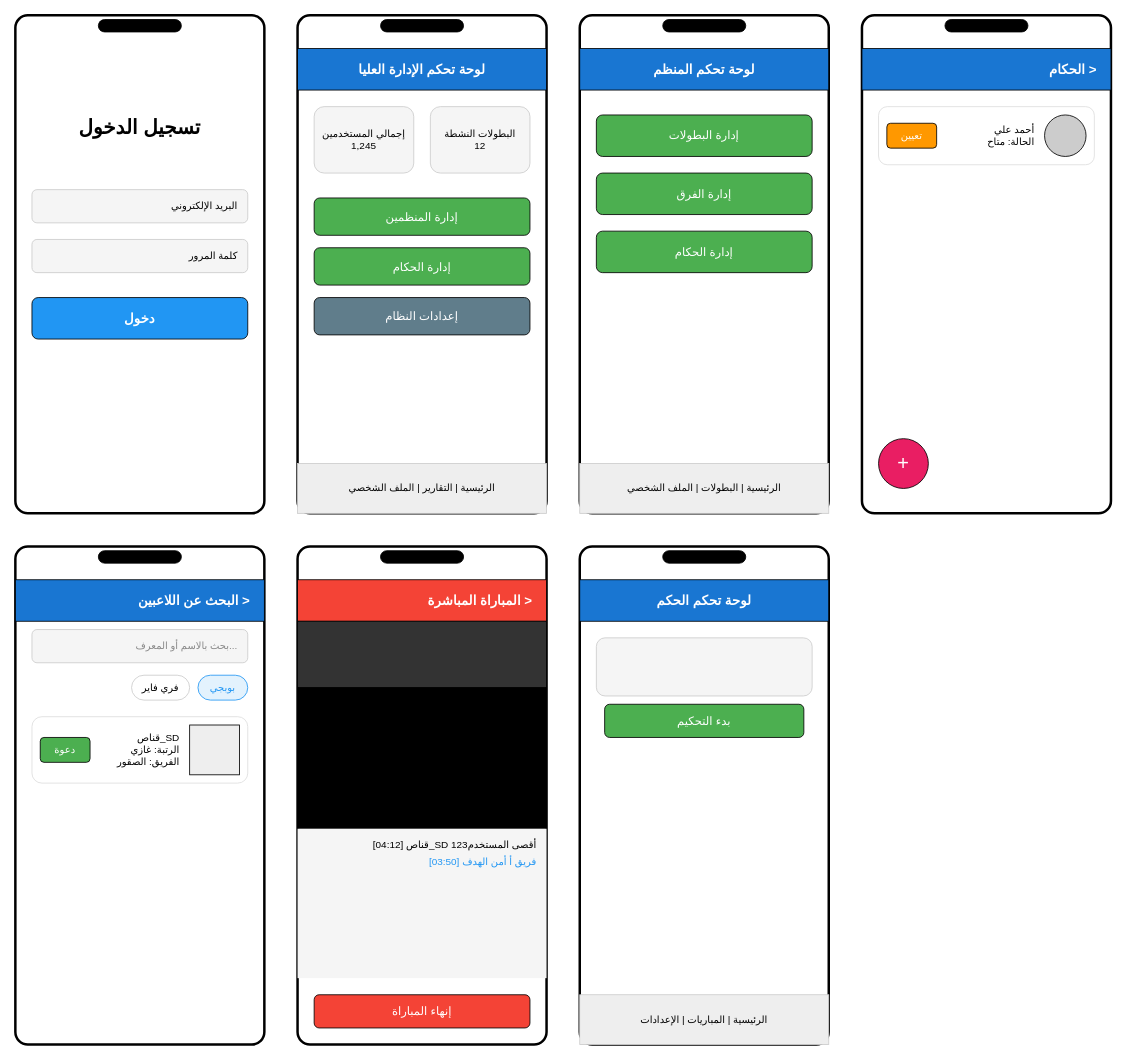
This 1126x1060 diagram has some shape labels left out. The shapes that lost their labels are listed below. From the top down, each one's centre as x and y in pixels, then its label:
(422,654): فريق أ 2 - 1 فريق ب 05:23
(704,666): مباراة: الصقور ضد النمور الوقت: 08:00 مساءً
(214,749): صورة
(422,758): مكان البث المباشر
